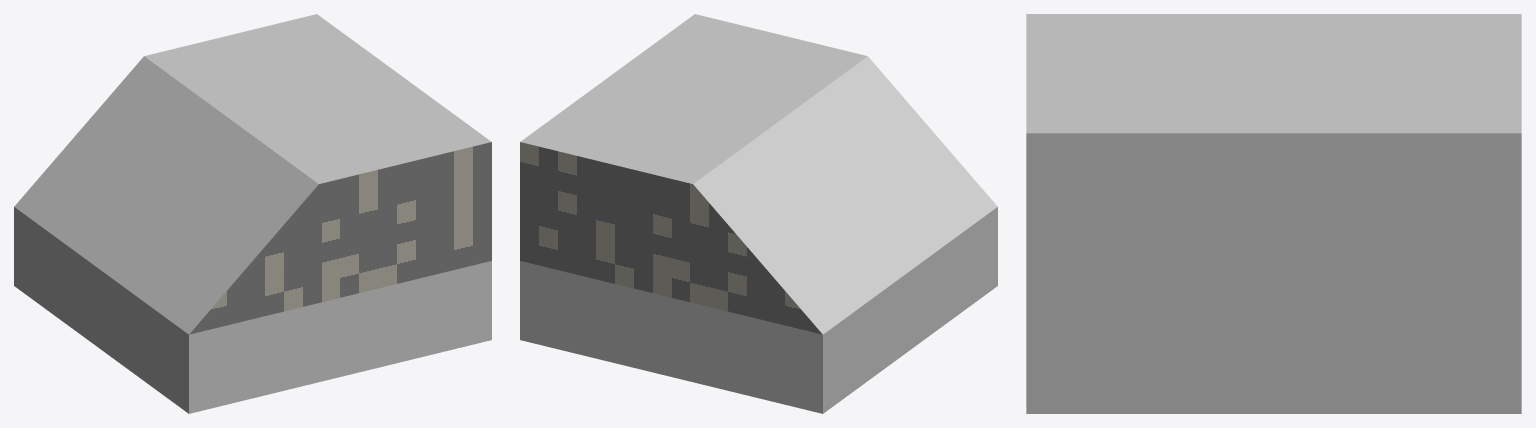
File: slope87_5_shave8_base4.obj
The picture shows the model from 3 angles, left to right: view 1: azimuth 30°, elevation 25°; view 2: azimuth 150°, elevation 25°; view 3: azimuth 270°, elevation 25°; orthographic projection. The views are drawn at different scales.
Bounding box in the file's own units: 1 × 0.625 × 1.
